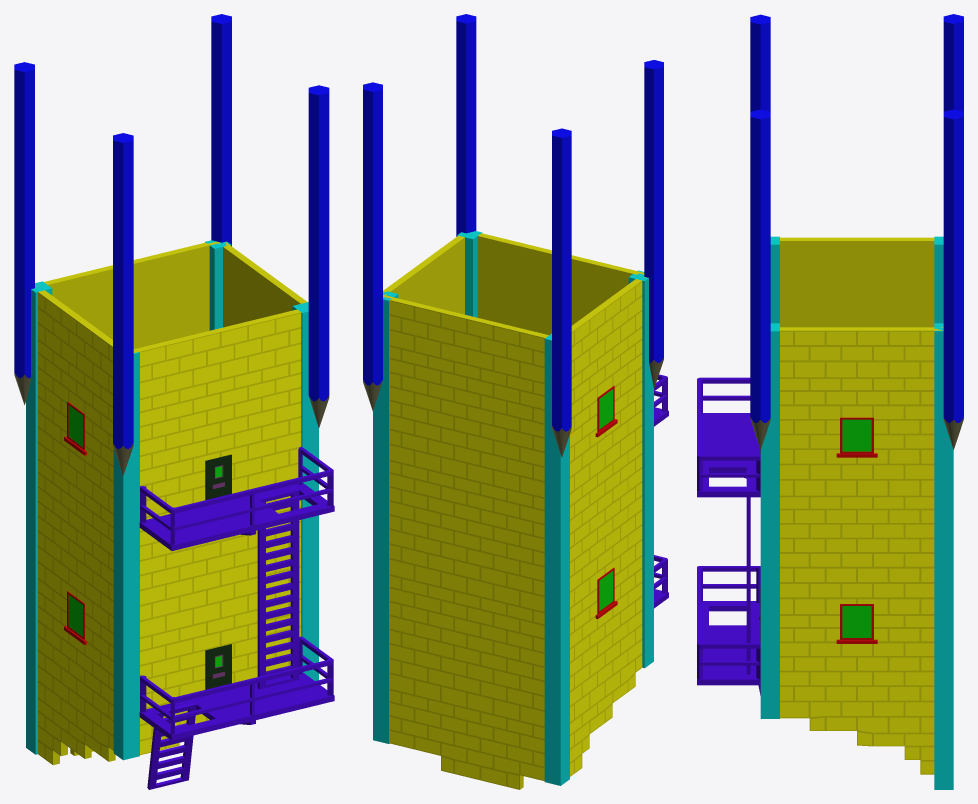
Rendered from CollapseBuildingMain.fbx.
The picture shows the model from 3 angles, left to right: view 1: azimuth 30°, elevation 25°; view 2: azimuth 150°, elevation 25°; view 3: azimuth 270°, elevation 25°; orthographic projection. The views are drawn at different scales.
Visible parts, largest first — view 1: CollapsedBuilding1; view 2: CollapsedBuilding1; view 3: CollapsedBuilding1.
Part boxes in pixels (x1,y1,x2,y2): CollapsedBuilding1: [14, 14, 334, 789]; CollapsedBuilding1: [363, 14, 668, 789]; CollapsedBuilding1: [697, 14, 963, 789].
Size of the model in its own units: 12.55 by 38.36 by 13.43.
